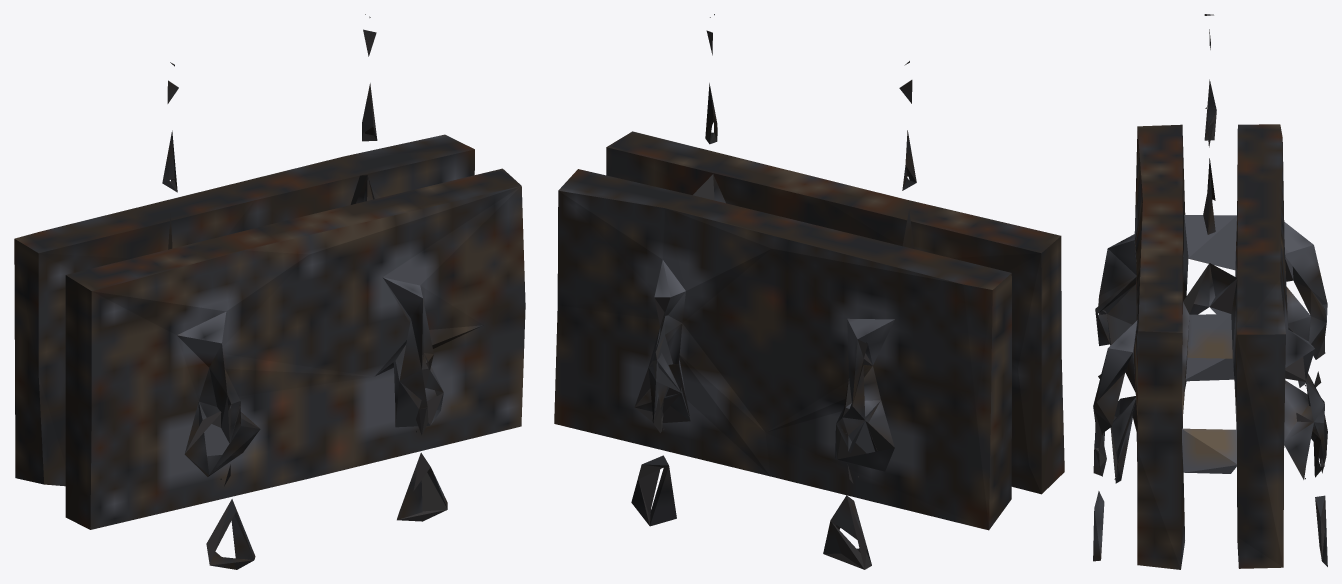
The model's file is SM_MeshyShackles.fbx.
3 renders of one model, left to right at view 1: azimuth 30°, elevation 25°; view 2: azimuth 150°, elevation 25°; view 3: azimuth 270°, elevation 25°, orthographic. The views are drawn at different scales.
Visible parts, largest first — view 1: SM_MeshyShackles; view 2: SM_MeshyShackles; view 3: SM_MeshyShackles.
Boxes of the visible parts, x1,y1,x2,y2 form: SM_MeshyShackles: (14, 14, 525, 569); SM_MeshyShackles: (554, 14, 1064, 569); SM_MeshyShackles: (1093, 14, 1327, 569).
Size of the model in its own units: 1.19 by 1.22 by 0.564.
1 material, 1 textured.
